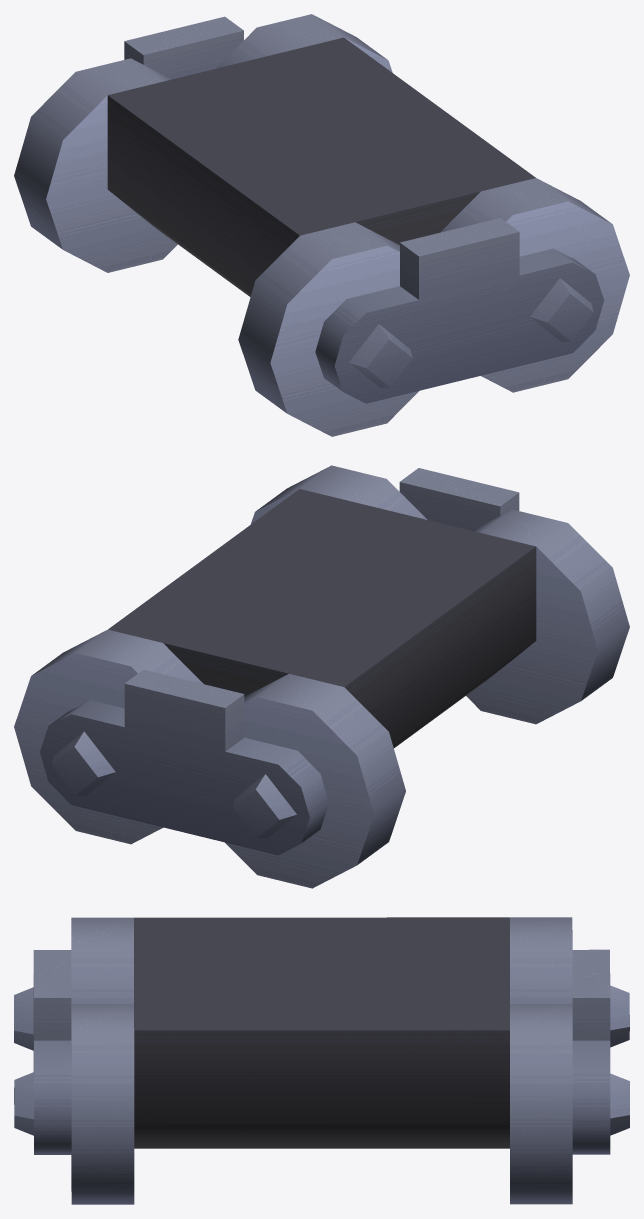
Rendered from wheels-front.003_lev2.glb.
3 views of the same model, one above another, from view 1: azimuth 30°, elevation 25°; view 2: azimuth 150°, elevation 25°; view 3: azimuth 270°, elevation 25° (orthographic). The views are drawn at different scales.
Parts seen in each view (by area): view 1: wheels-front.003_lev2; view 2: wheels-front.003_lev2; view 3: wheels-front.003_lev2.
Part boxes in pixels (x1,y1,x2,y2): wheels-front.003_lev2: (14,14,629,436); wheels-front.003_lev2: (14,465,629,888); wheels-front.003_lev2: (14,917,629,1204).
Bounding box in the file's own units: 1.36 × 0.6423 × 2.06.
Materials: 1 (1 with a texture image).
